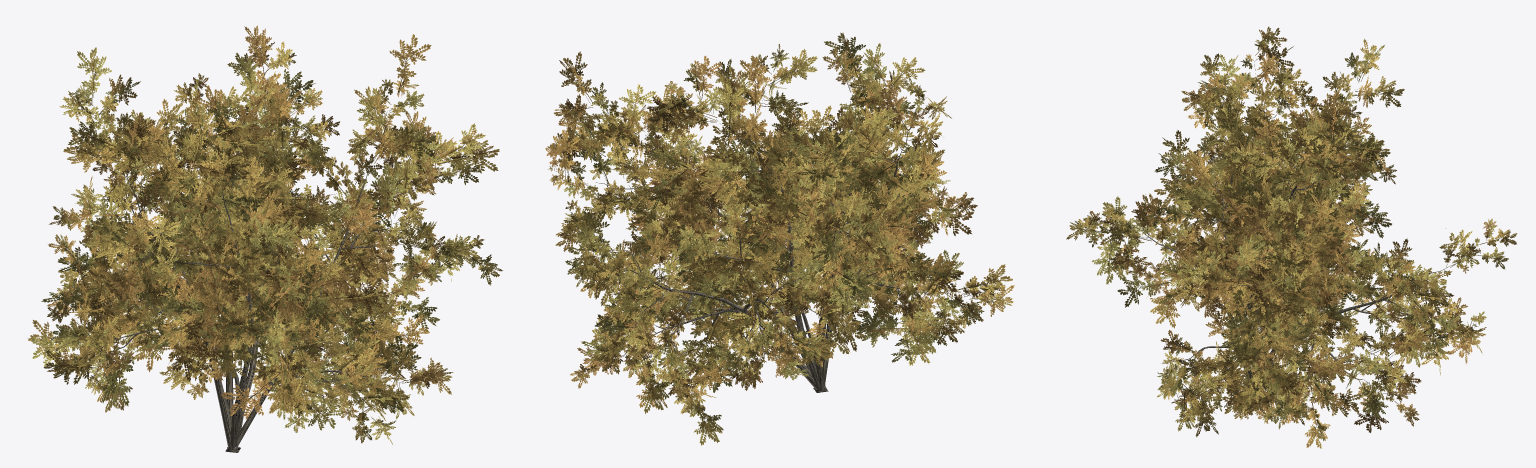
The picture shows the model from 3 angles, left to right: view 1: azimuth 30°, elevation 25°; view 2: azimuth 150°, elevation 25°; view 3: azimuth 270°, elevation 25°; orthographic projection. The views are drawn at different scales.
Visible parts, largest first — view 1: Tree; view 2: Tree; view 3: Tree.
Part boxes in pixels (x1,y1,x2,y2): Tree: (27,25,502,452); Tree: (545,32,1014,445); Tree: (1066,26,1517,448).
Bounding box in the file's own units: 34.98 × 28.29 × 33.88.
Materials: 2 (2 with a texture image).
